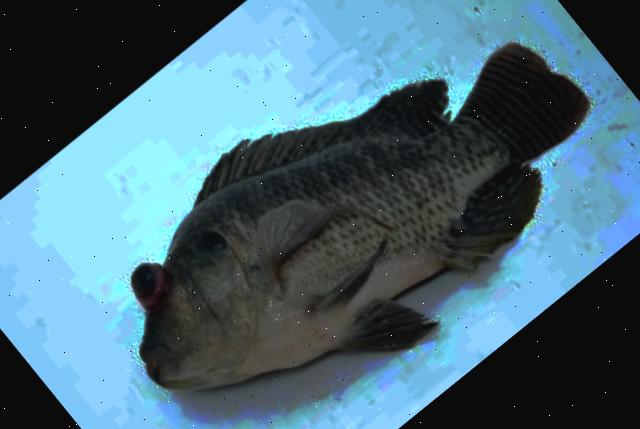Streptococcus: (131, 43, 587, 389), (131, 43, 587, 389), (131, 43, 587, 388), (131, 43, 587, 388), (131, 43, 587, 387)
